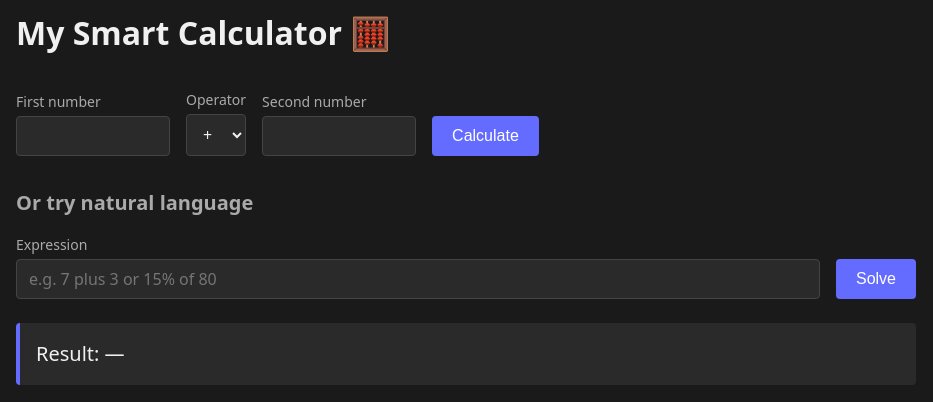
Test: App › [CALC-008] shows validation when both fields are empty
Select "+" in the dropdown labelled "Operator". click: coordinates (216, 135)
box: x1=186 y1=114 x2=246 y2=156
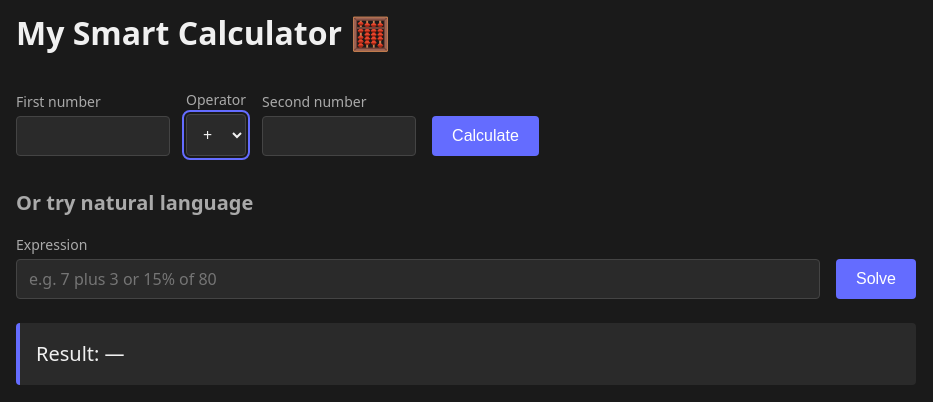
Click the button "Calculate". click: coordinates (485, 136)
box: x1=432 y1=116 x2=539 y2=156
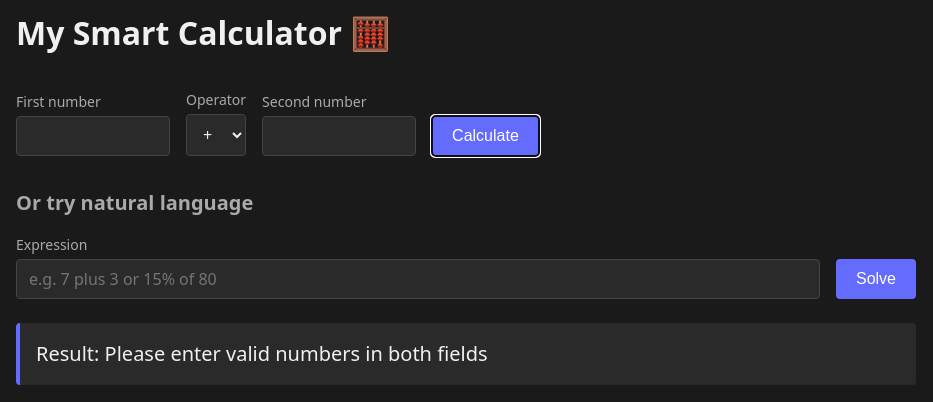
Expected: the text "Result: Please enter valid numbers in both fields" is shown, x1=16 y1=323 x2=916 y2=385
